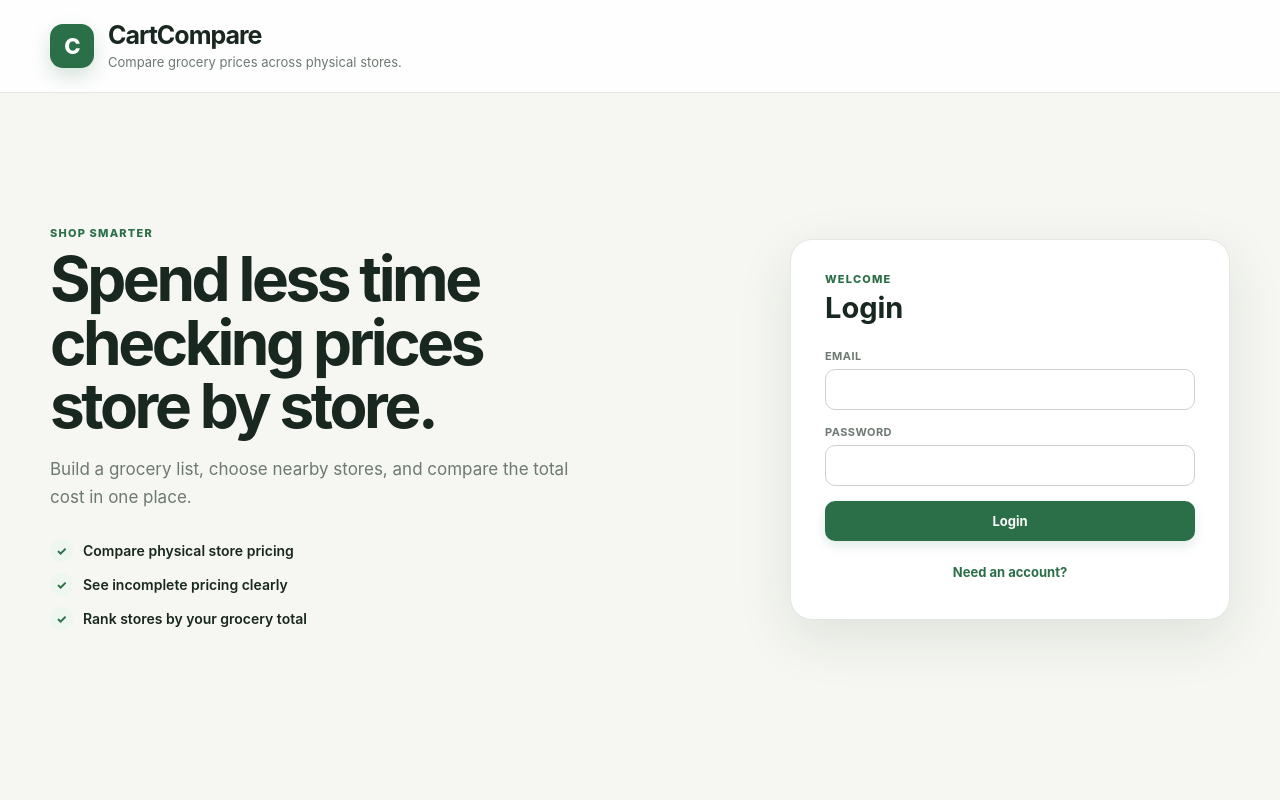
Test: App authentication › shows the API error when login fails
Type "wrong@example.com" into the field labelled "Email". click: (1010, 389)
box: [825,368,1195,410]
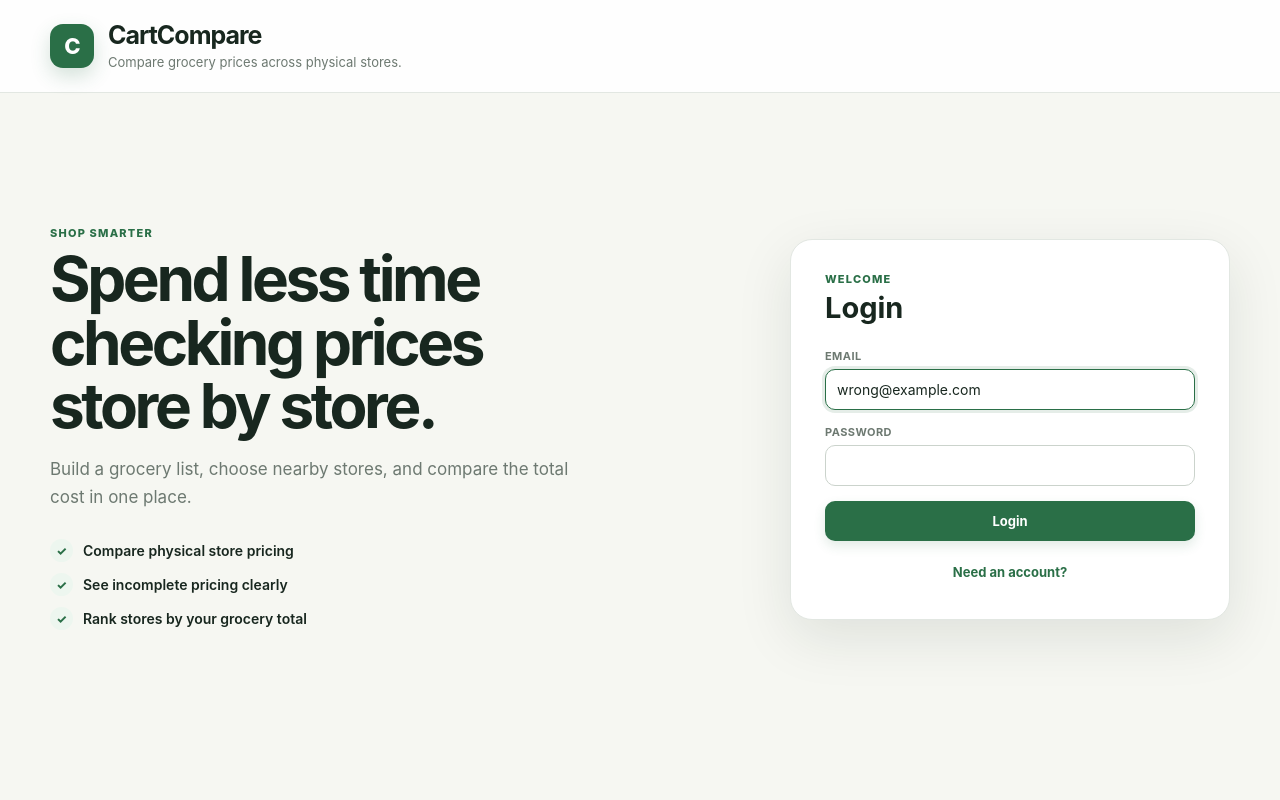
Type "wrong-password" into the password field labelled "Password". click: (1010, 465)
box: [825,444,1195,486]
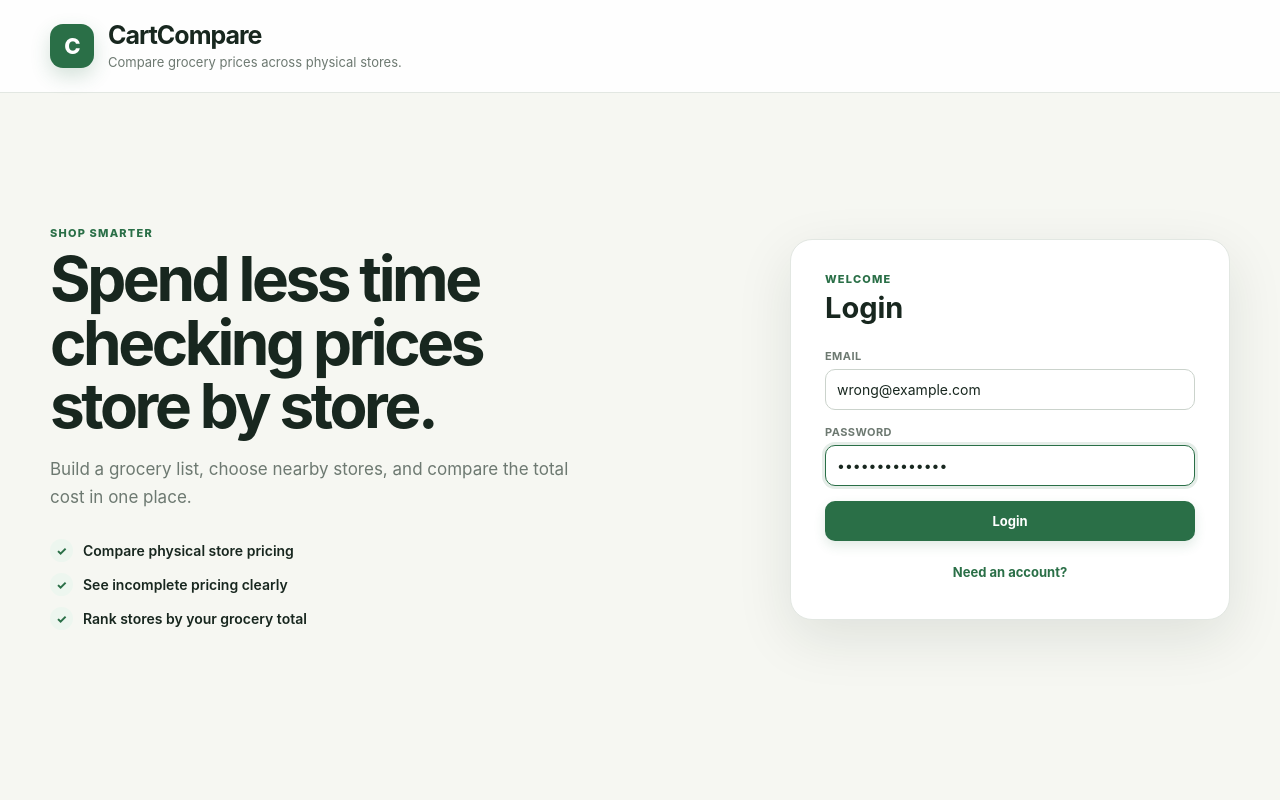
Click the button "Login". click: (1010, 520)
box: [825,500,1195,540]
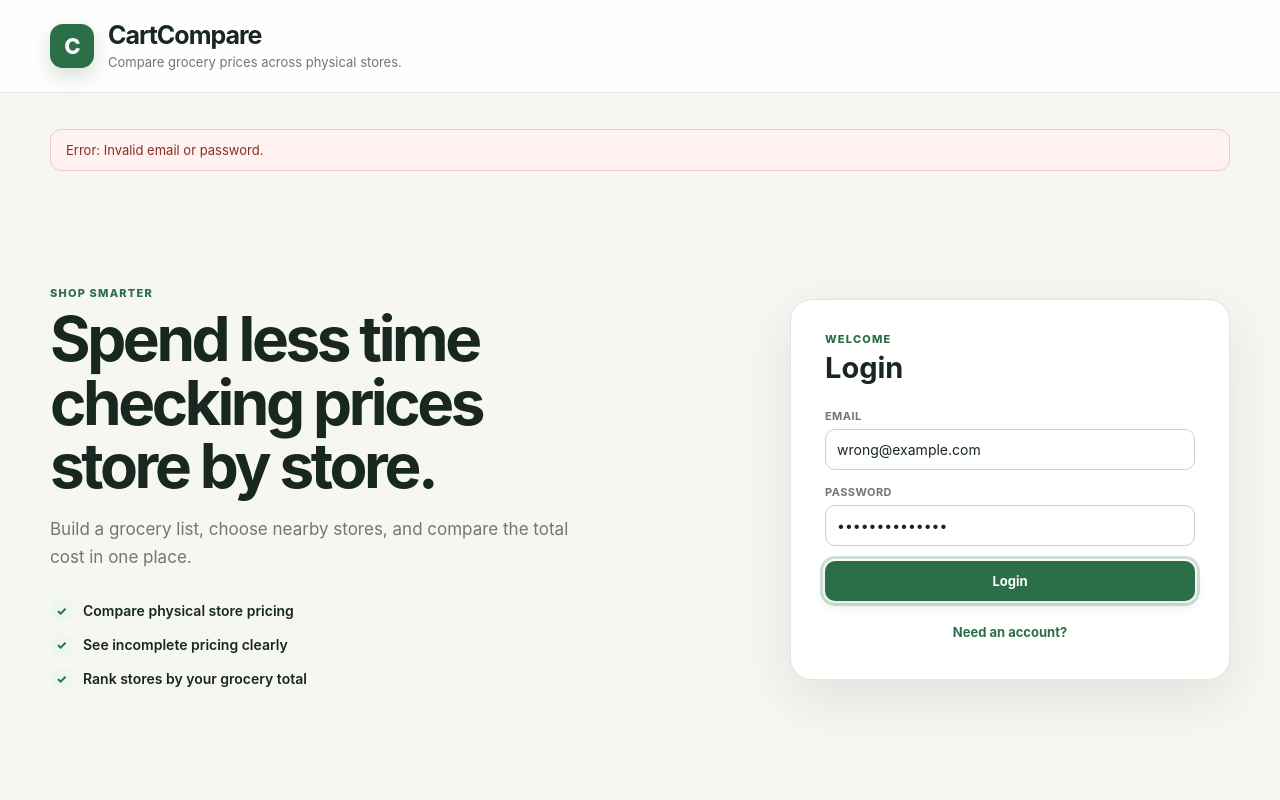
Expected: the heading "Login" is shown, [825,350,903,384]
Now the text "Error: Invalid email or password." is shown, box [50,129,1230,171]
